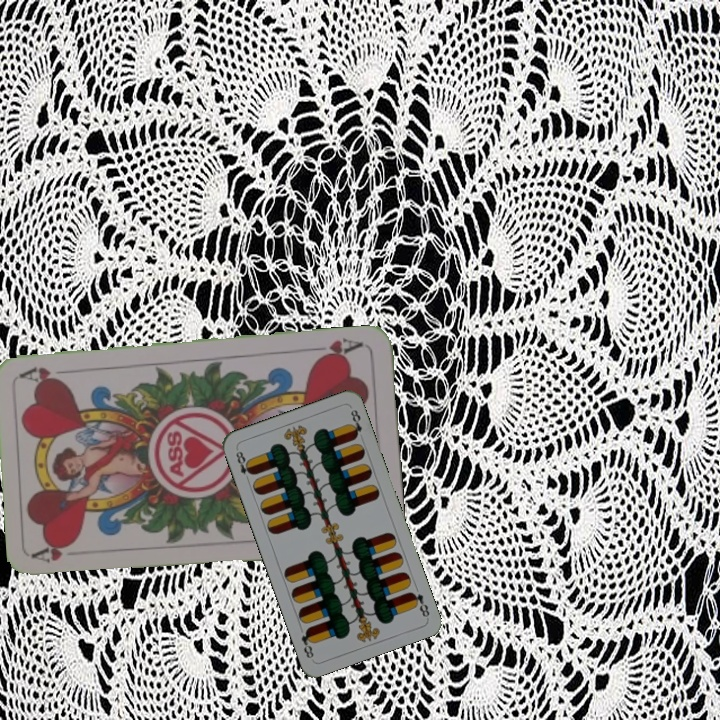E8: (232, 447, 256, 485), (406, 588, 432, 620)
HA: (308, 333, 366, 363), (31, 538, 76, 566)
